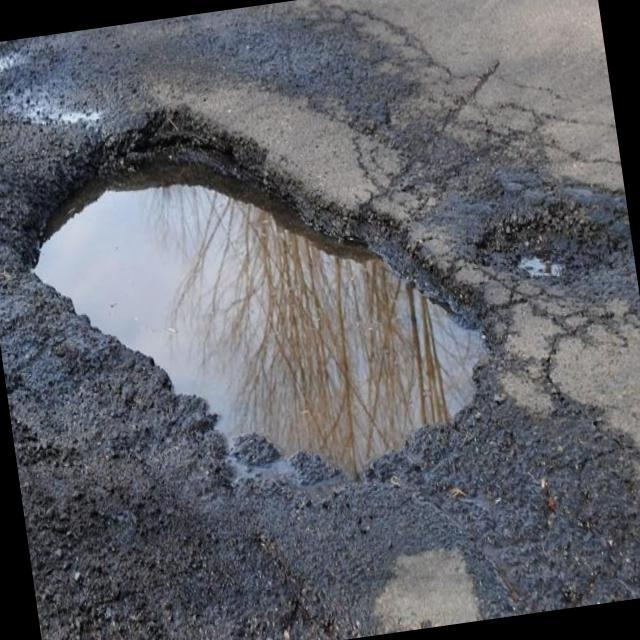Pothole: (35, 154, 486, 477), (521, 256, 564, 277)
